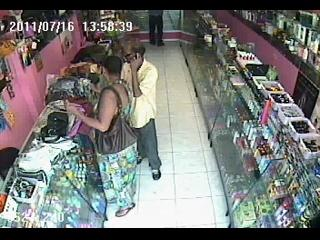Normal: (64, 55, 140, 218), (122, 43, 162, 180), (147, 10, 165, 46)
